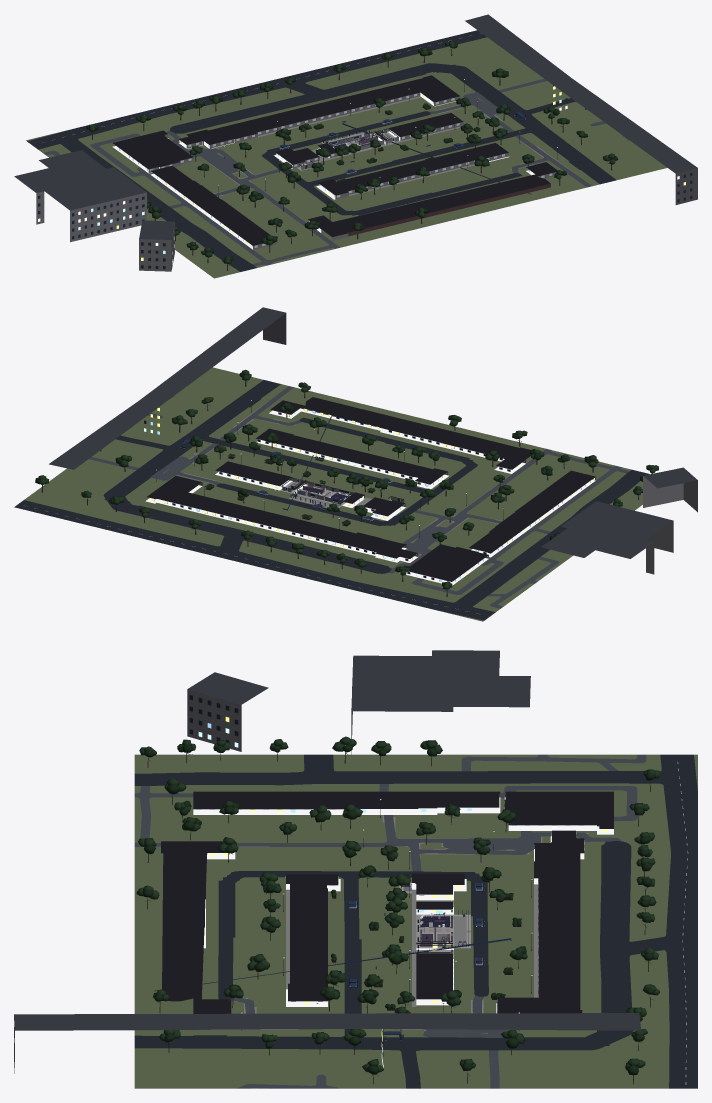
The model's file is level.glb.
3 renders of one model, top to bottom at view 1: azimuth 30°, elevation 25°; view 2: azimuth 150°, elevation 25°; view 3: azimuth 270°, elevation 25°, orthographic. The views are drawn at different scales.
Parts seen in each view (by area): view 1: static, blocks_caps, canopies, far_caps, far_canopies; view 2: static, blocks_caps, canopies, far_caps, far_canopies, blocks_windows; view 3: static, blocks_caps, canopies, far_canopies, far_caps.
Boxes of the visible parts, x1,y1,x2,y2 form: static: [14, 14, 697, 278]; blocks_caps: [113, 75, 557, 245]; canopies: [189, 97, 534, 237]; far_caps: [319, 175, 550, 237]; far_canopies: [86, 41, 618, 263]; static: [14, 307, 697, 621]; blocks_caps: [147, 400, 595, 581]; canopies: [190, 403, 570, 542]; far_caps: [305, 397, 530, 468]; far_canopies: [35, 369, 658, 589]; blocks_windows: [151, 408, 594, 581]; static: [14, 650, 697, 1088]; blocks_caps: [193, 791, 613, 1013]; canopies: [174, 800, 527, 1013]; far_canopies: [136, 736, 660, 1075]; far_caps: [161, 841, 222, 1001].
Bounding box in the file's own units: 220 × 12.4 × 163.
